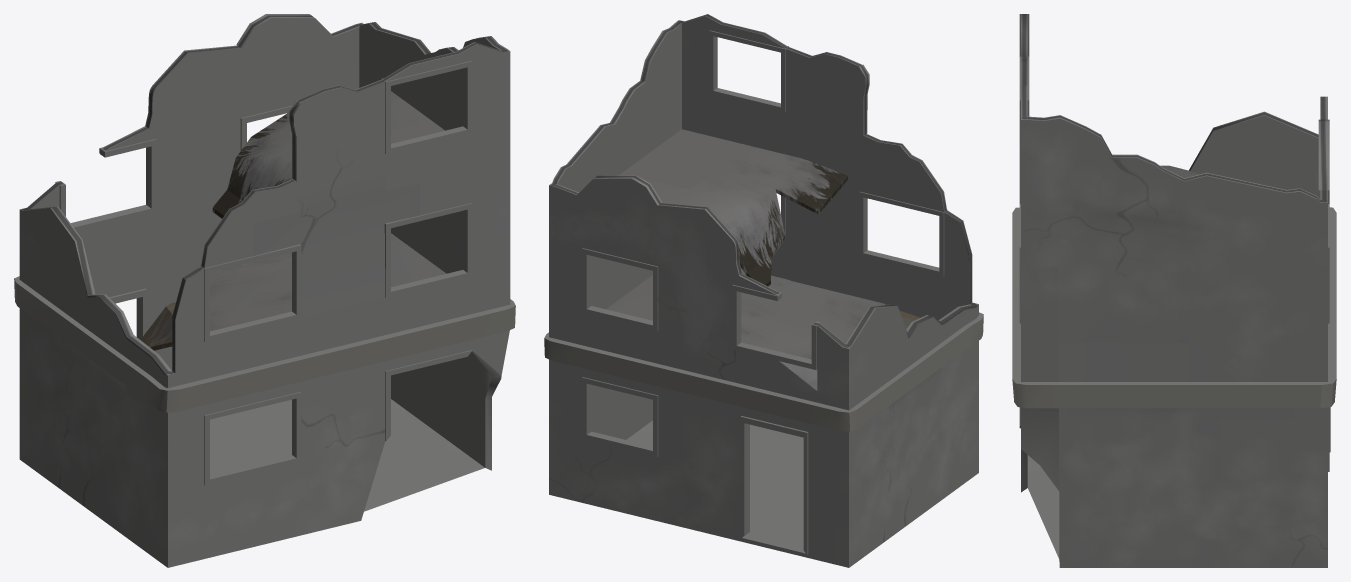
File: broken_bulding.glb
3 views of the same model, side by side, from view 1: azimuth 30°, elevation 25°; view 2: azimuth 150°, elevation 25°; view 3: azimuth 270°, elevation 25° (orthographic). The views are drawn at different scales.
Visible parts, largest first — view 1: Object_2, Object_4, Object_3; view 2: Object_2, Object_3, Object_4; view 3: Object_4, Object_2.
Part boxes in pixels (bbox=[...]): Object_2: bbox=[14, 14, 515, 567]; Object_4: bbox=[23, 174, 419, 555]; Object_3: bbox=[141, 91, 446, 350]; Object_2: bbox=[544, 14, 983, 567]; Object_3: bbox=[606, 129, 920, 359]; Object_4: bbox=[546, 332, 964, 565]; Object_4: bbox=[1021, 175, 1327, 567]; Object_2: bbox=[1012, 14, 1336, 561].
Bounding box in the file's own units: 4134 × 4999 × 3171.
Materials: 2 (2 with a texture image).
